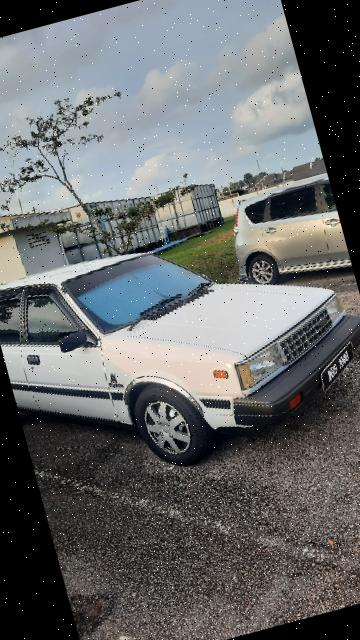License_Plate: (310, 335, 360, 394)
car: (1, 188, 360, 509), (222, 174, 353, 295)
